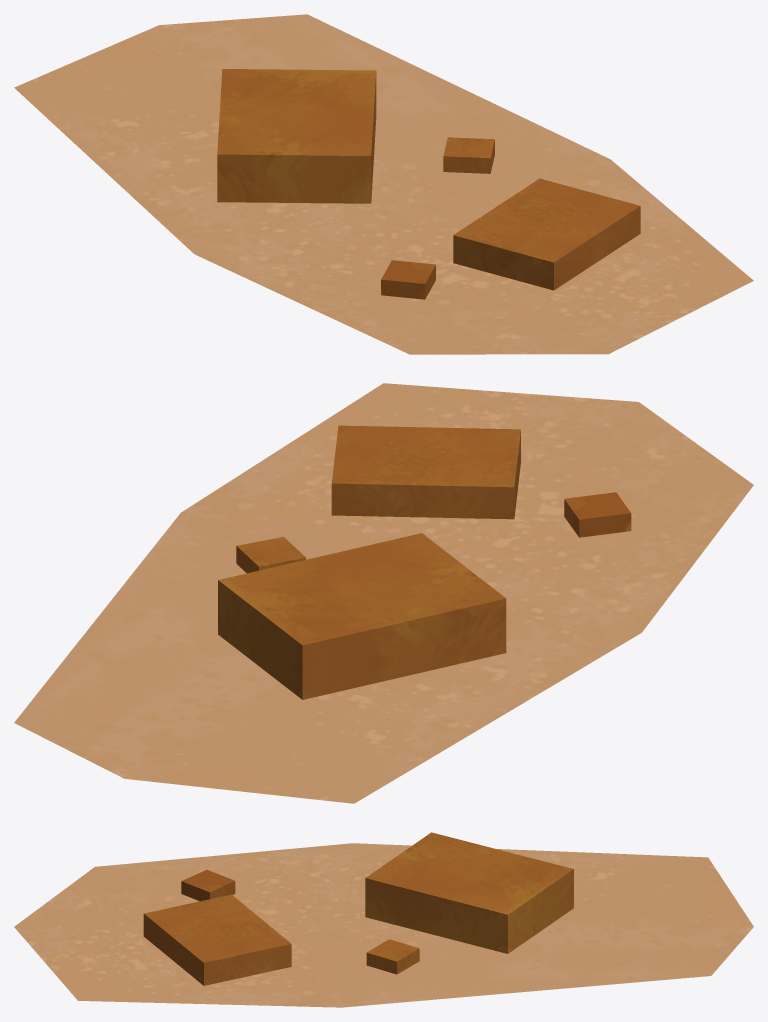
Rendered from SM_rubble1.fbx.
3 renders of one model, top to bottom at view 1: azimuth 30°, elevation 25°; view 2: azimuth 150°, elevation 25°; view 3: azimuth 270°, elevation 25°, orthographic. The views are drawn at different scales.
Parts seen in each view (by area): view 1: rubble1; view 2: rubble1; view 3: rubble1.
Boxes of the visible parts, left/top/right/bottom form: rubble1: left=14, top=14, right=753, bottom=354; rubble1: left=14, top=383, right=753, bottom=803; rubble1: left=14, top=832, right=753, bottom=1007.
Size of the model in its own units: 8.73 by 1.04 by 16.61.
